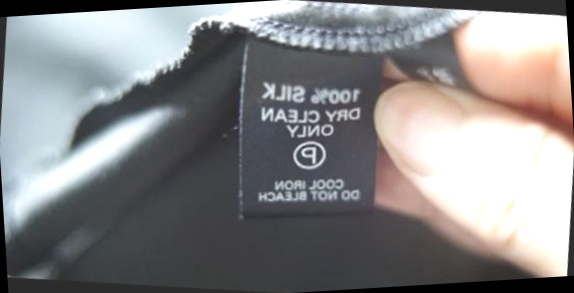dry_clean_any_solvent_except_trichloroethylene: (289, 136, 328, 172)
